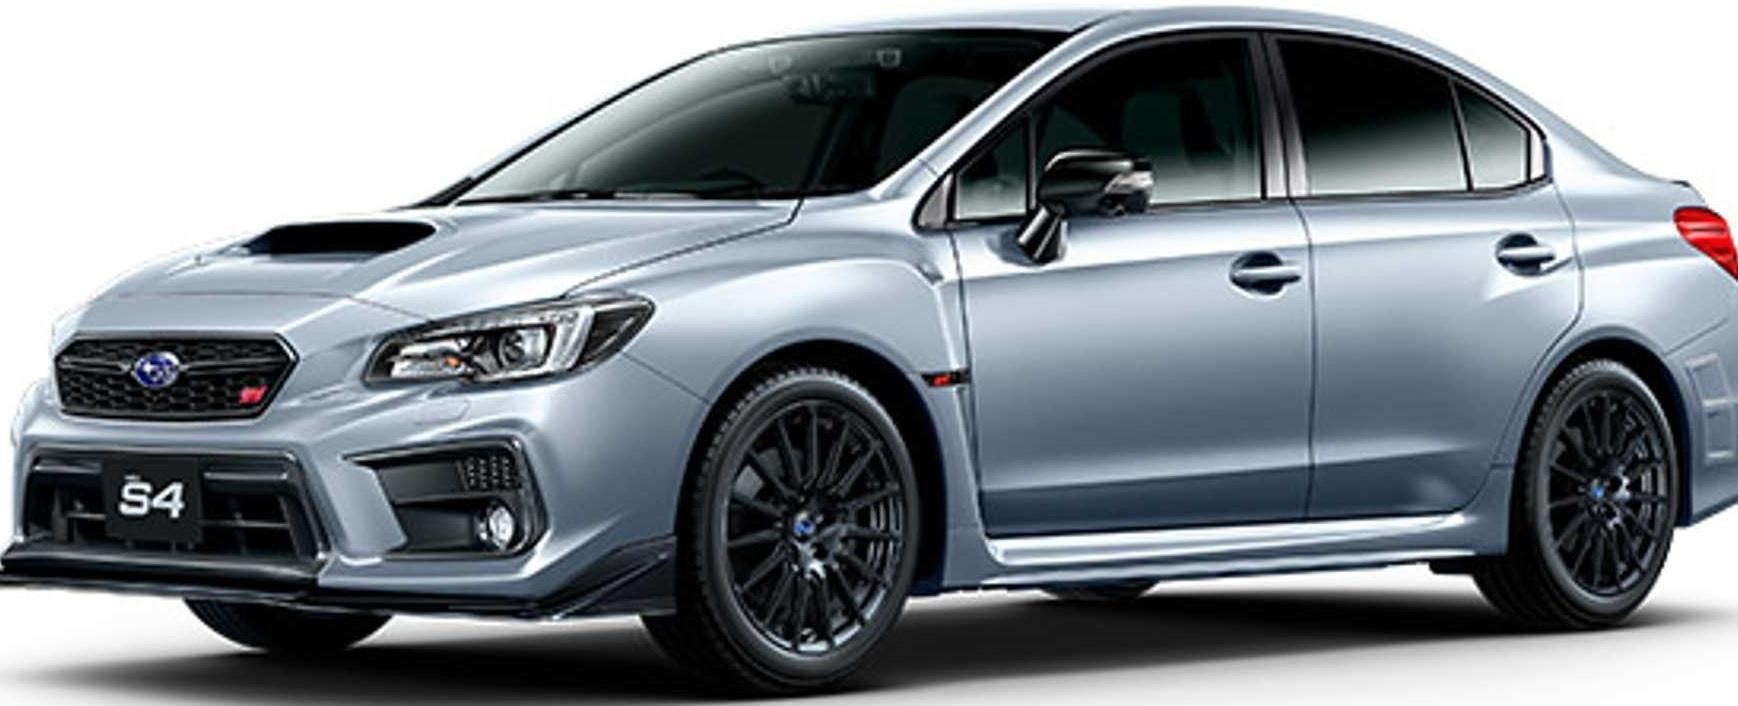Cars: (0, 7, 1738, 689)
